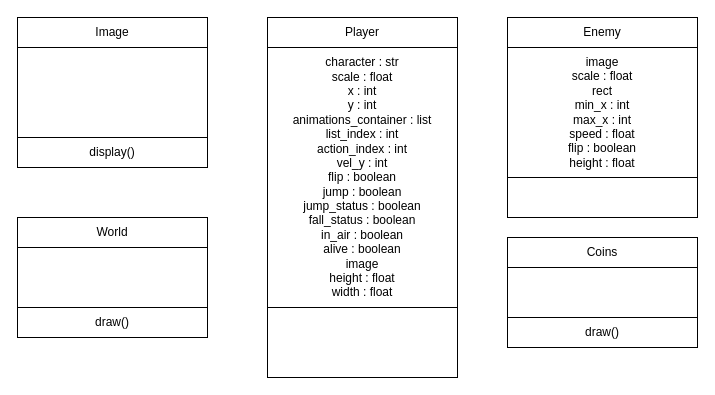
Image size: 715x395. Some labels were removed from this diagram. Here are the shapes that lost their labels. From the top down, the centre of each, then its label:
the point at 112,92: image x : int y : int scale : float rect
the point at 602,197: move() draw()
the point at 112,277: block_list : list danger_list : list door_list : list
the point at 602,292: coin_image_scaled rect
the point at 362,342: update_animation() update_action() move(move_left, move_right) draw()
